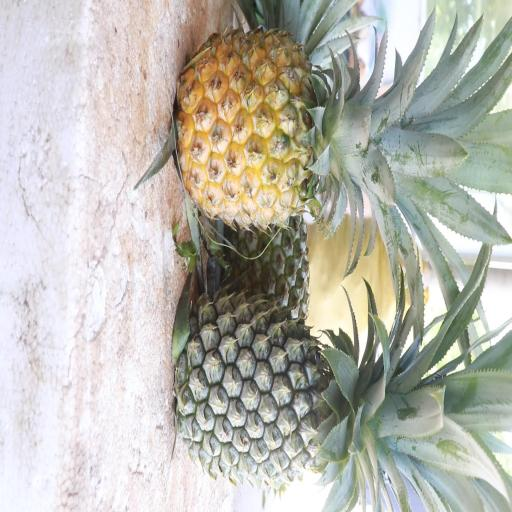Pineapple - v8 v1: (170, 17, 435, 237)
